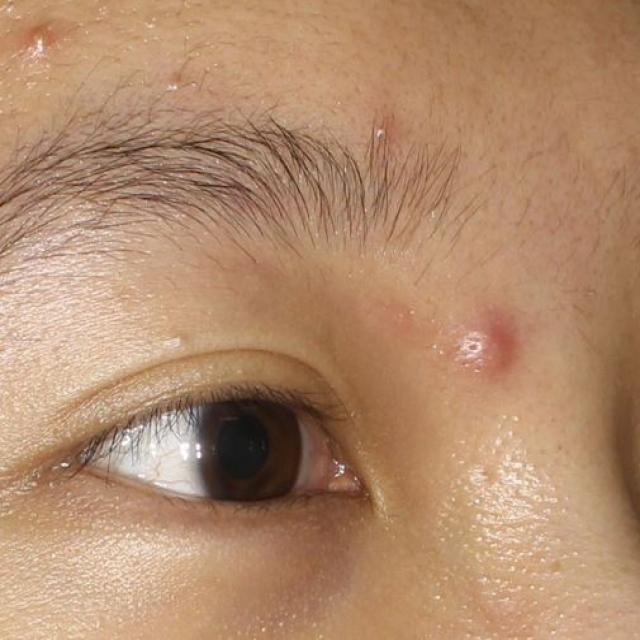Pimples: (454, 316, 508, 383), (18, 18, 56, 62), (161, 326, 192, 352)
